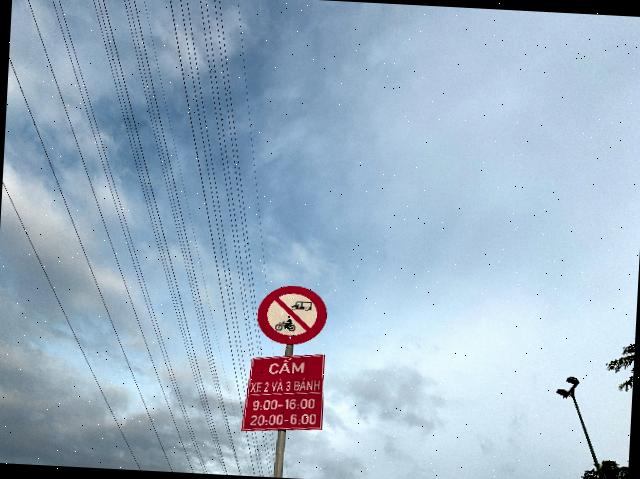cam-xe-2-banh-3-banh: (256, 283, 328, 346)
